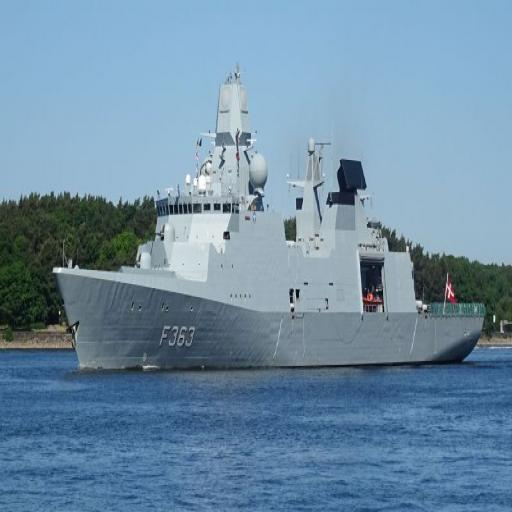Fragata: (45, 65, 491, 381)
